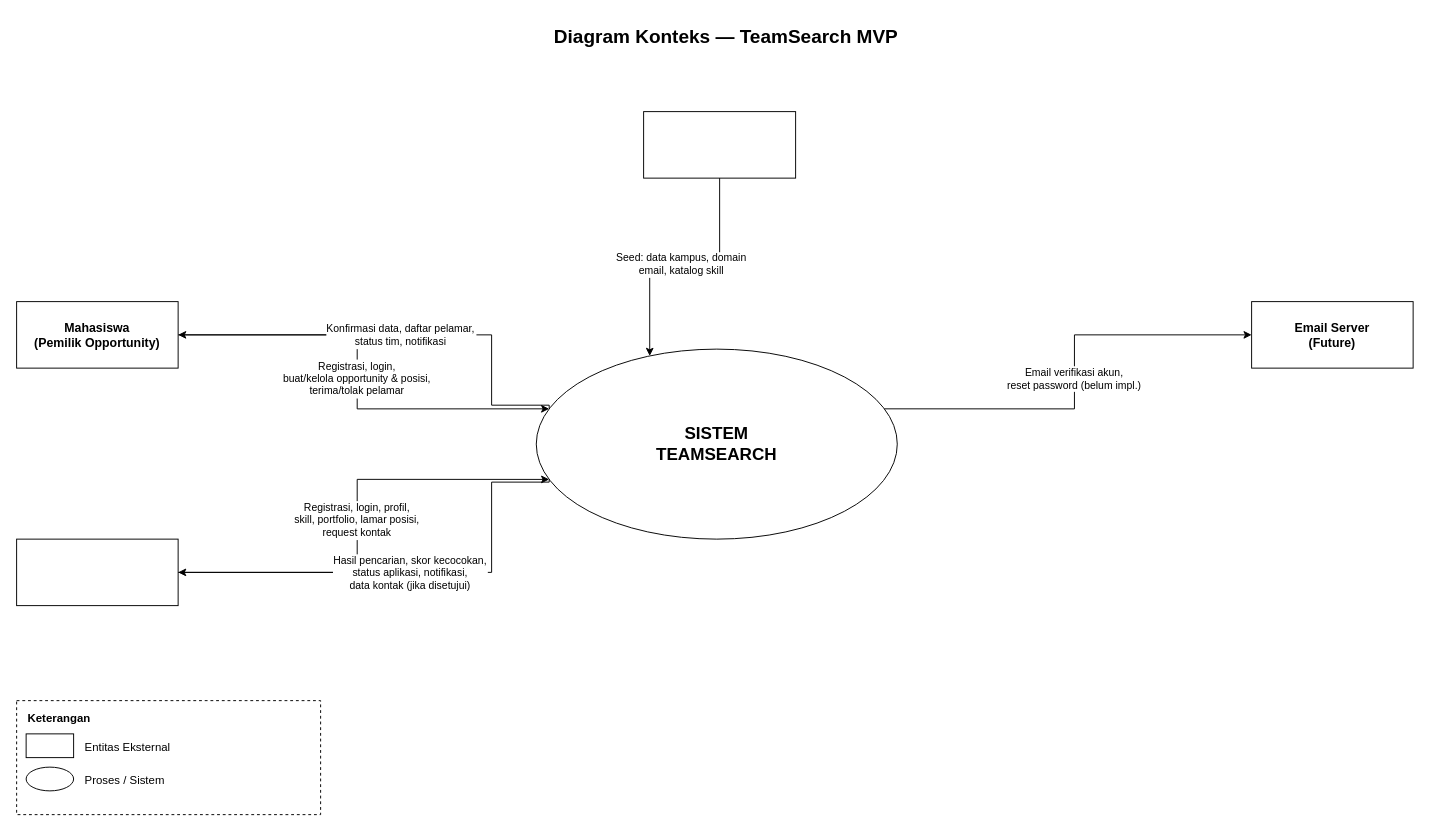
Image size: 1430x831. Some labels were removed from this diagram. The box of each missing label's shape, as (x1, y1, x2, y2) in pixels:
Admin Kampus: (643, 111, 796, 178)
Mahasiswa (Pencari Tim): (16, 538, 178, 606)
